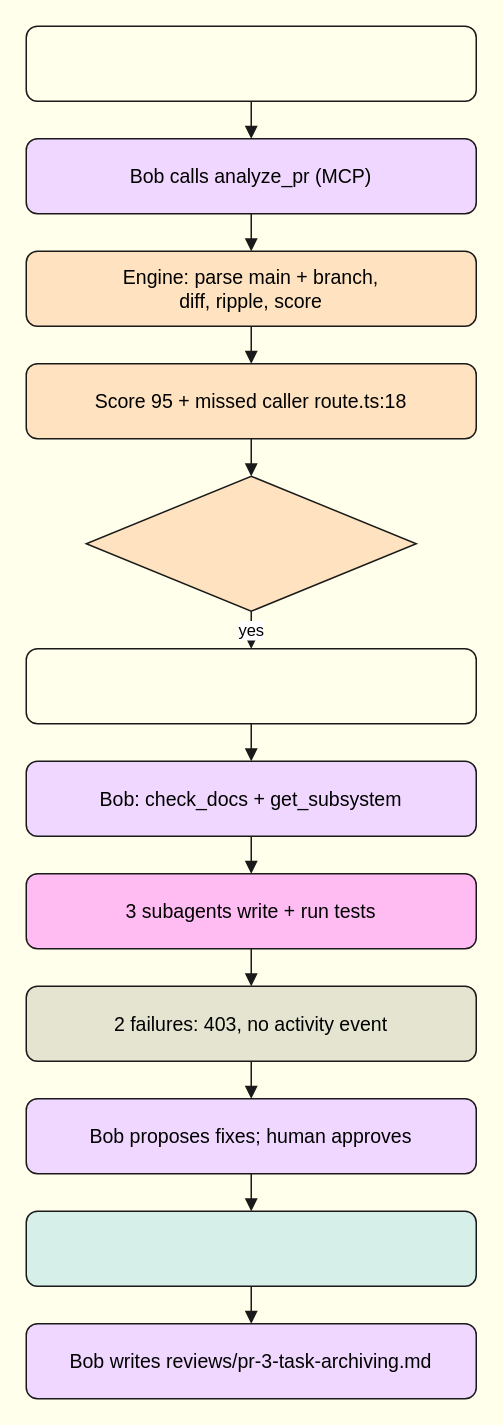
Image size: 503x1425. Some labels were removed from this diagram. Each missing label, with the box of its shape:
Gate: score ≥ 70 or missed caller?: (85, 475, 416, 611)
Human: Continue: (25, 647, 476, 724)
Rerun: 5 / 5 pass: (25, 1210, 476, 1286)
Reviewer: Review branch pr-3-task-archiving: (25, 25, 476, 101)
